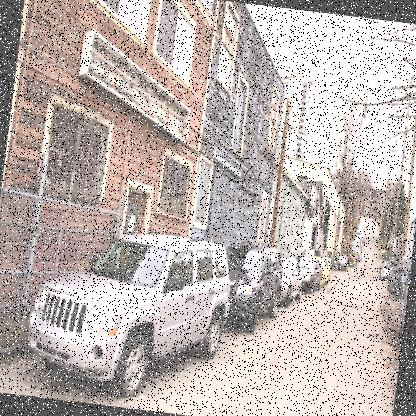Car: (22, 216, 333, 415), (390, 256, 412, 348), (386, 257, 411, 294), (348, 218, 366, 260), (378, 260, 396, 282), (398, 265, 410, 296), (334, 252, 349, 271)
